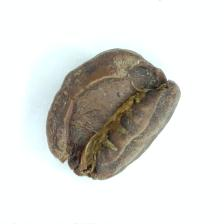NG: (61, 66, 152, 168)
